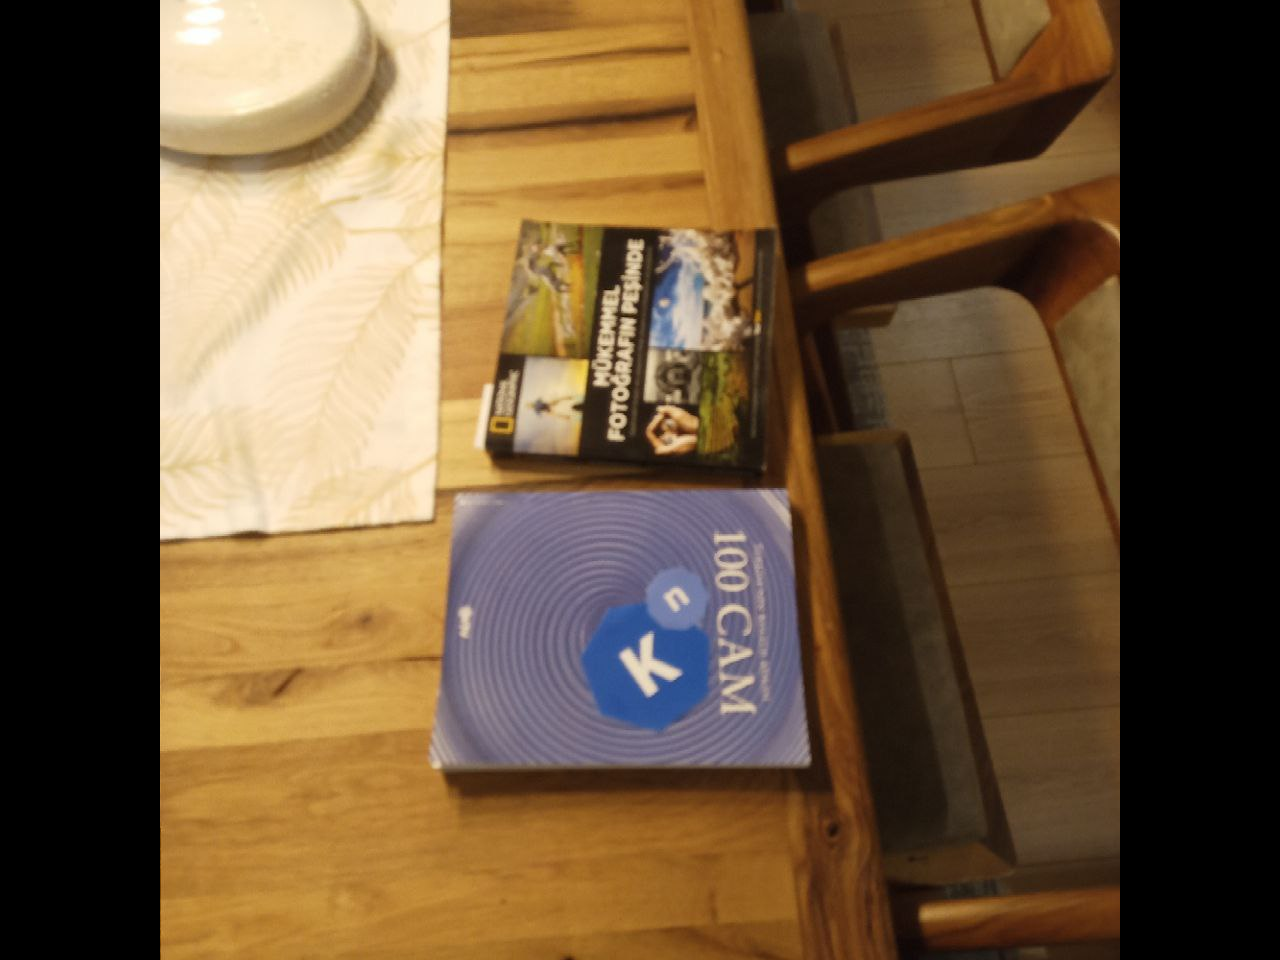knative: (582, 567, 711, 734)
